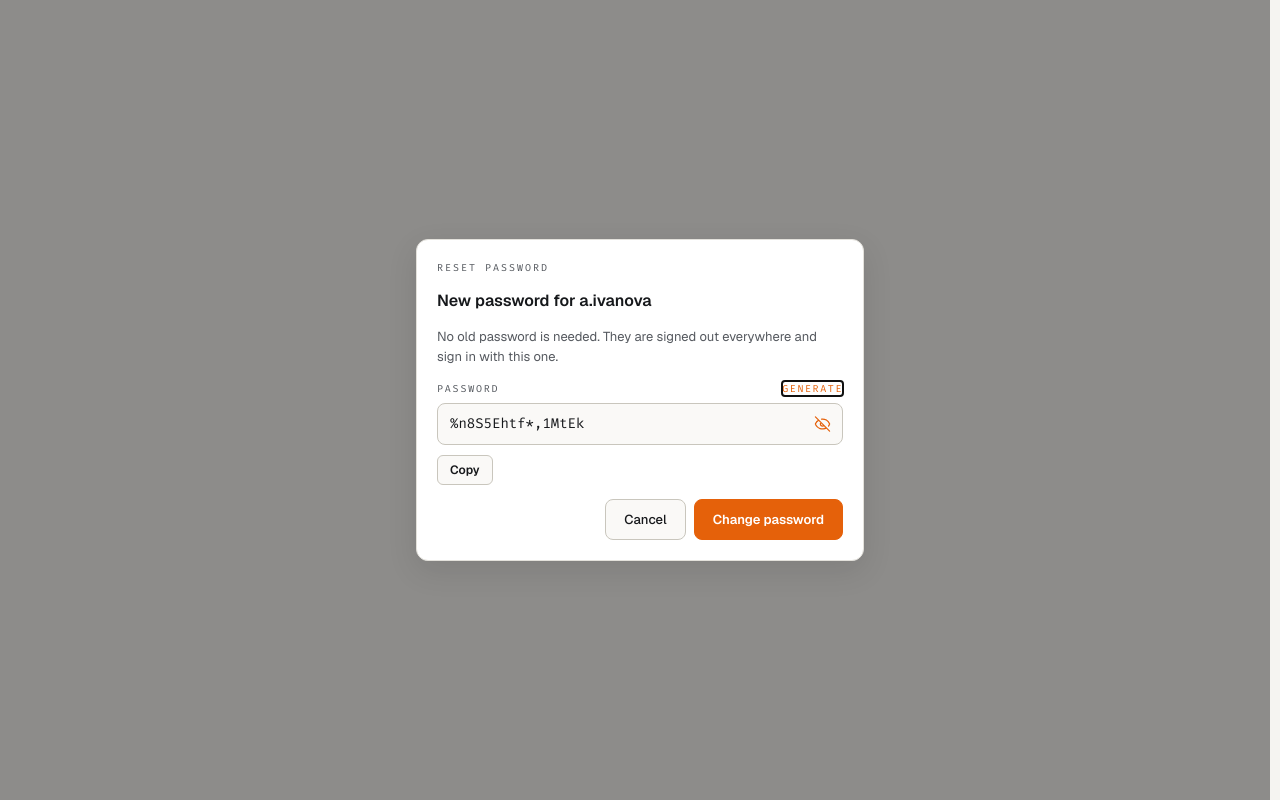
Test: ResetPasswordDialog › copies the password on Copy and says so
The image size is (1280, 800).
What coordinates should you click on to do the following:
click the button with aria-label "Copy password"
I would click on:
 (465, 470)
Its box is 437,455 -> 493,485.
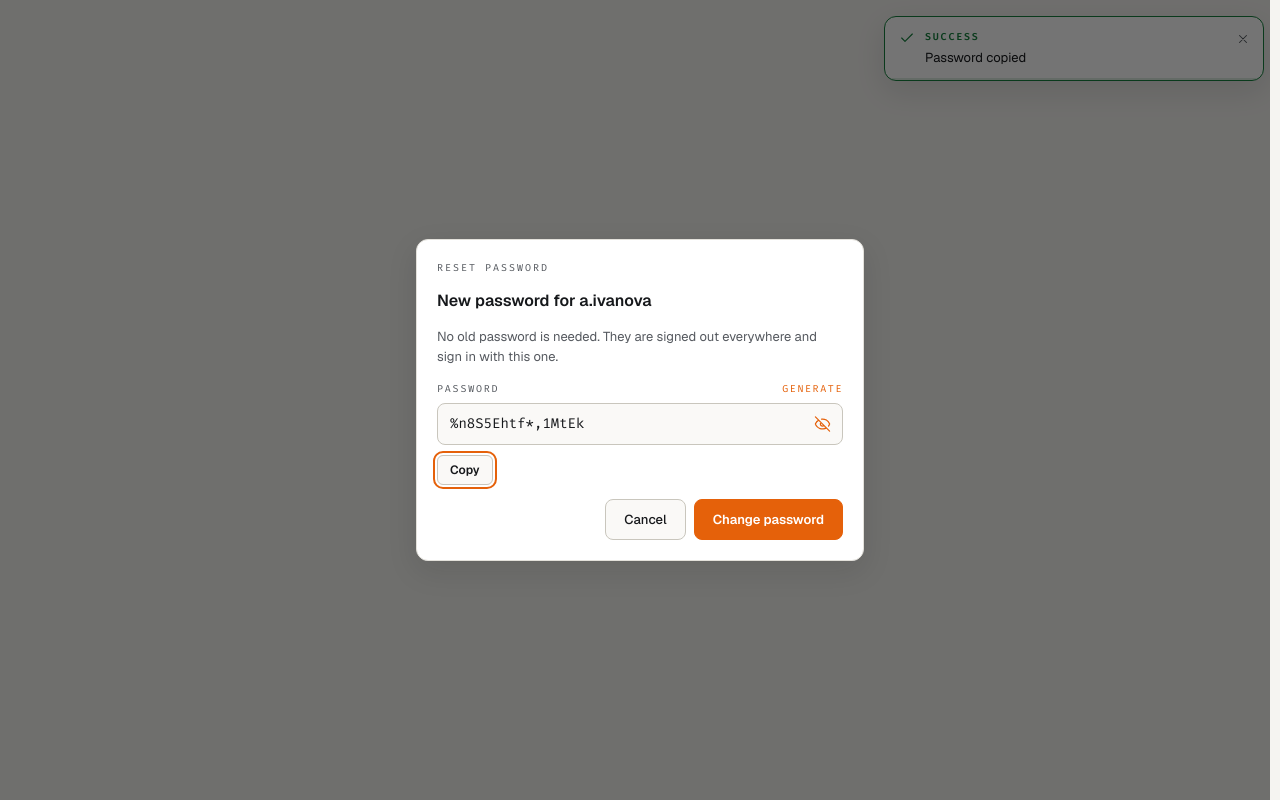
Check: the text "Password copied" is shown, box 925,49 -> 1026,66
